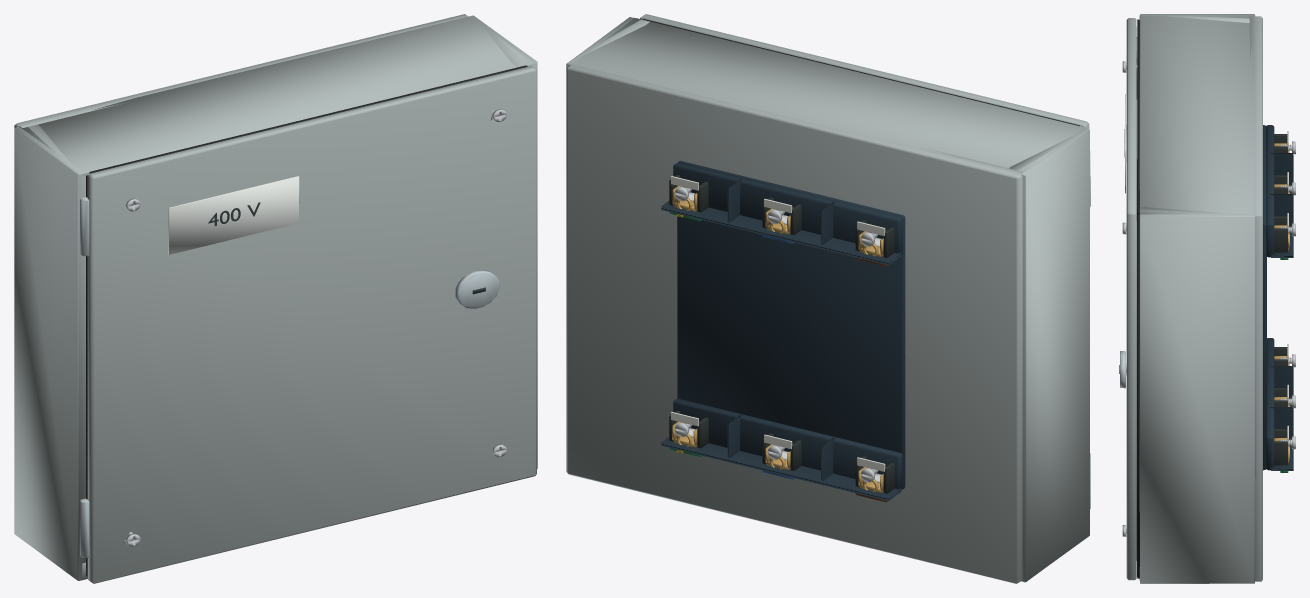
The model's file is panel_industrial-cabinet.low.glb.
The picture shows the model from 3 angles, left to right: view 1: azimuth 30°, elevation 25°; view 2: azimuth 150°, elevation 25°; view 3: azimuth 270°, elevation 25°; orthographic projection. The views are drawn at different scales.
Visible parts, largest first — view 1: part:cover · Powder coated cabinet steel, part:body · Powder coated cabinet steel, Danger label plate, detail:enclosure-gasket-and-fixings · Detail rubber gasket, Quarter-turn cabinet latch, part:cover · Machined steel; view 2: part:body · Powder coated cabinet steel, part:terminals.001 · Original a463fd81, part:cover · Powder coated cabinet steel, detail:enclosure-gasket-and-fixings · Detail rubber gasket; view 3: part:body · Powder coated cabinet steel, part:cover · Powder coated cabinet steel, part:terminals.001 · Original a463fd81, detail:enclosure-gasket-and-fixings · Detail rubber gasket, detail:terminal-clamp:PE · Detail moulded engineering polyme, detail:terminal-clamp:PEOUT · Detail moulded engineering pol.
Part boxes in pixels (left/top/right/bottom): part:cover · Powder coated cabinet steel: left=87, top=66, right=536, bottom=583; part:body · Powder coated cabinet steel: left=14, top=14, right=537, bottom=580; Danger label plate: left=168, top=176, right=299, bottom=254; detail:enclosure-gasket-and-fixings · Detail rubber gasket: left=86, top=65, right=527, bottom=576; Quarter-turn cabinet latch: left=455, top=270, right=499, bottom=308; part:cover · Machined steel: left=80, top=197, right=89, bottom=557; part:body · Powder coated cabinet steel: left=566, top=17, right=1089, bottom=583; part:terminals.001 · Original a463fd81: left=661, top=161, right=905, bottom=501; part:cover · Powder coated cabinet steel: left=640, top=14, right=1089, bottom=128; detail:enclosure-gasket-and-fixings · Detail rubber gasket: left=642, top=19, right=1079, bottom=126; part:body · Powder coated cabinet steel: left=1139, top=14, right=1262, bottom=583; part:cover · Powder coated cabinet steel: left=1126, top=18, right=1137, bottom=580; part:terminals.001 · Original a463fd81: left=1263, top=125, right=1293, bottom=470; detail:enclosure-gasket-and-fixings · Detail rubber gasket: left=1137, top=19, right=1139, bottom=578; detail:terminal-clamp:PE · Detail moulded engineering polyme: left=1274, top=216, right=1288, bottom=252; detail:terminal-clamp:PEOUT · Detail moulded engineering pol: left=1274, top=429, right=1288, bottom=465.
Bounding box in the file's own units: 1.9 × 1.61 × 0.7013.
